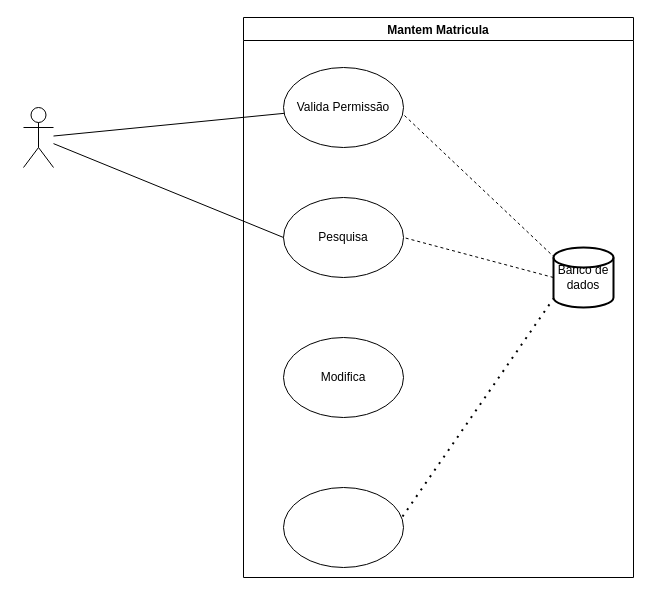
Image size: 651x595. Some labels were removed from this diagram. Here are the shapes that lost their labels. From the top down, the centre of each, then its label:
the point at 38,137: Sistema
the point at 343,527: Salva
